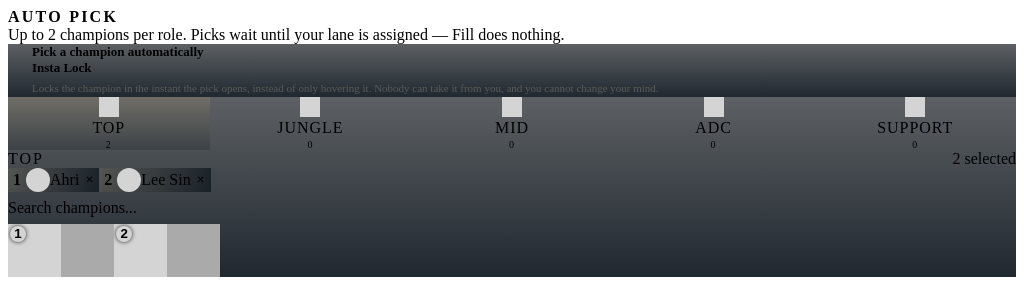
Test case: AutoPickScreen › filters by search and keeps the query in the store
This screenshot has width=1024, height=294.
In the search field: (512, 208) x1=8 y1=192 x2=1016 y2=224, type "yas"
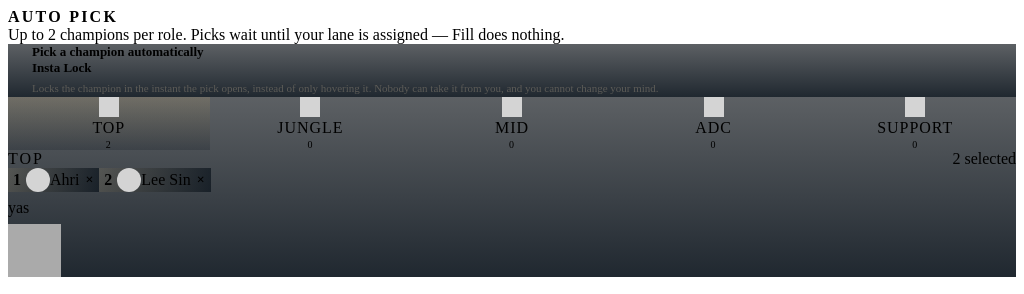
Expected: the button named "Yasuo" is shown, x1=8 y1=224 x2=61 y2=276
Now the button "Katarina" is gone
Replace the text in the search field with "zzz": (512, 208) x1=8 y1=192 x2=1016 y2=224
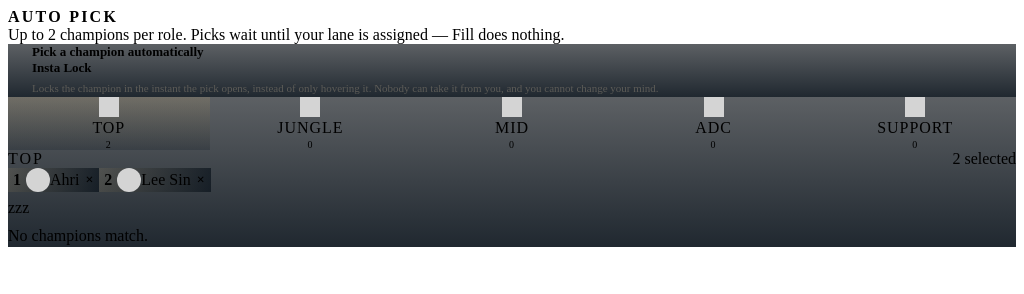
Now the text "No champions match." is shown, box x1=8 y1=226 x2=148 y2=244
